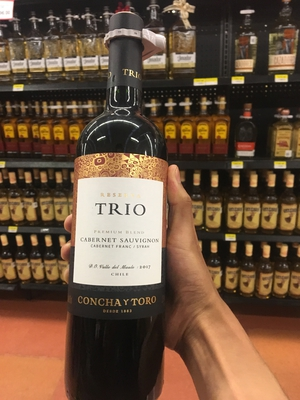trio cabernet sauvignon: (69, 26, 175, 400)
